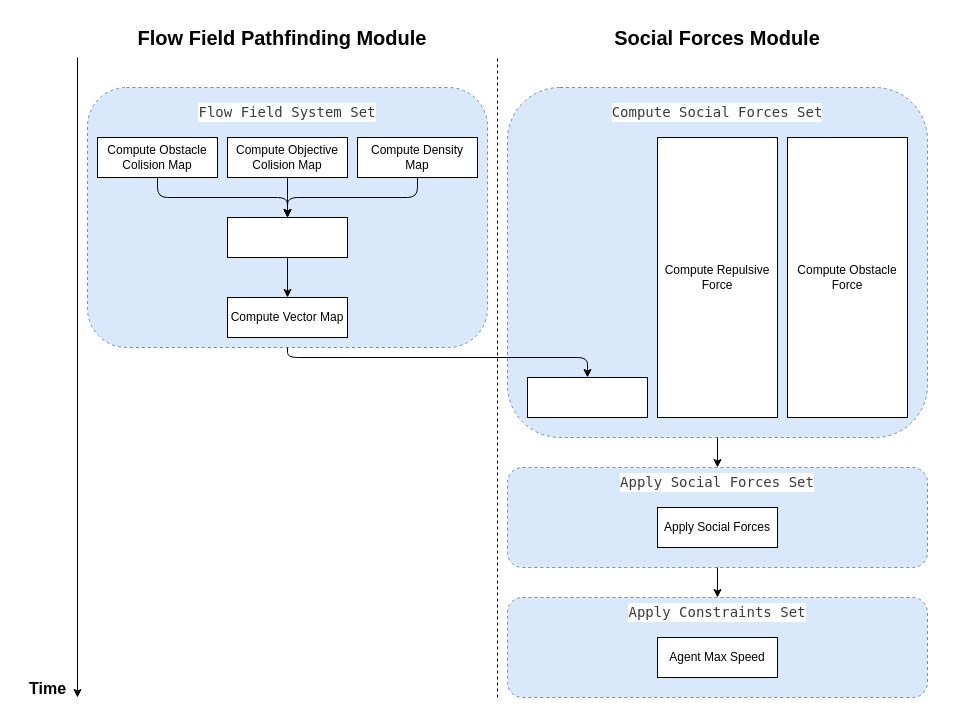
The diagram is 954 pixels wide and 723 high, and some of its shapes have lost their labels. Each missing label, with the box of its shape:
Compute Motivation Force: (526, 376, 648, 418)
Compute Proximity Map: (226, 216, 348, 258)
